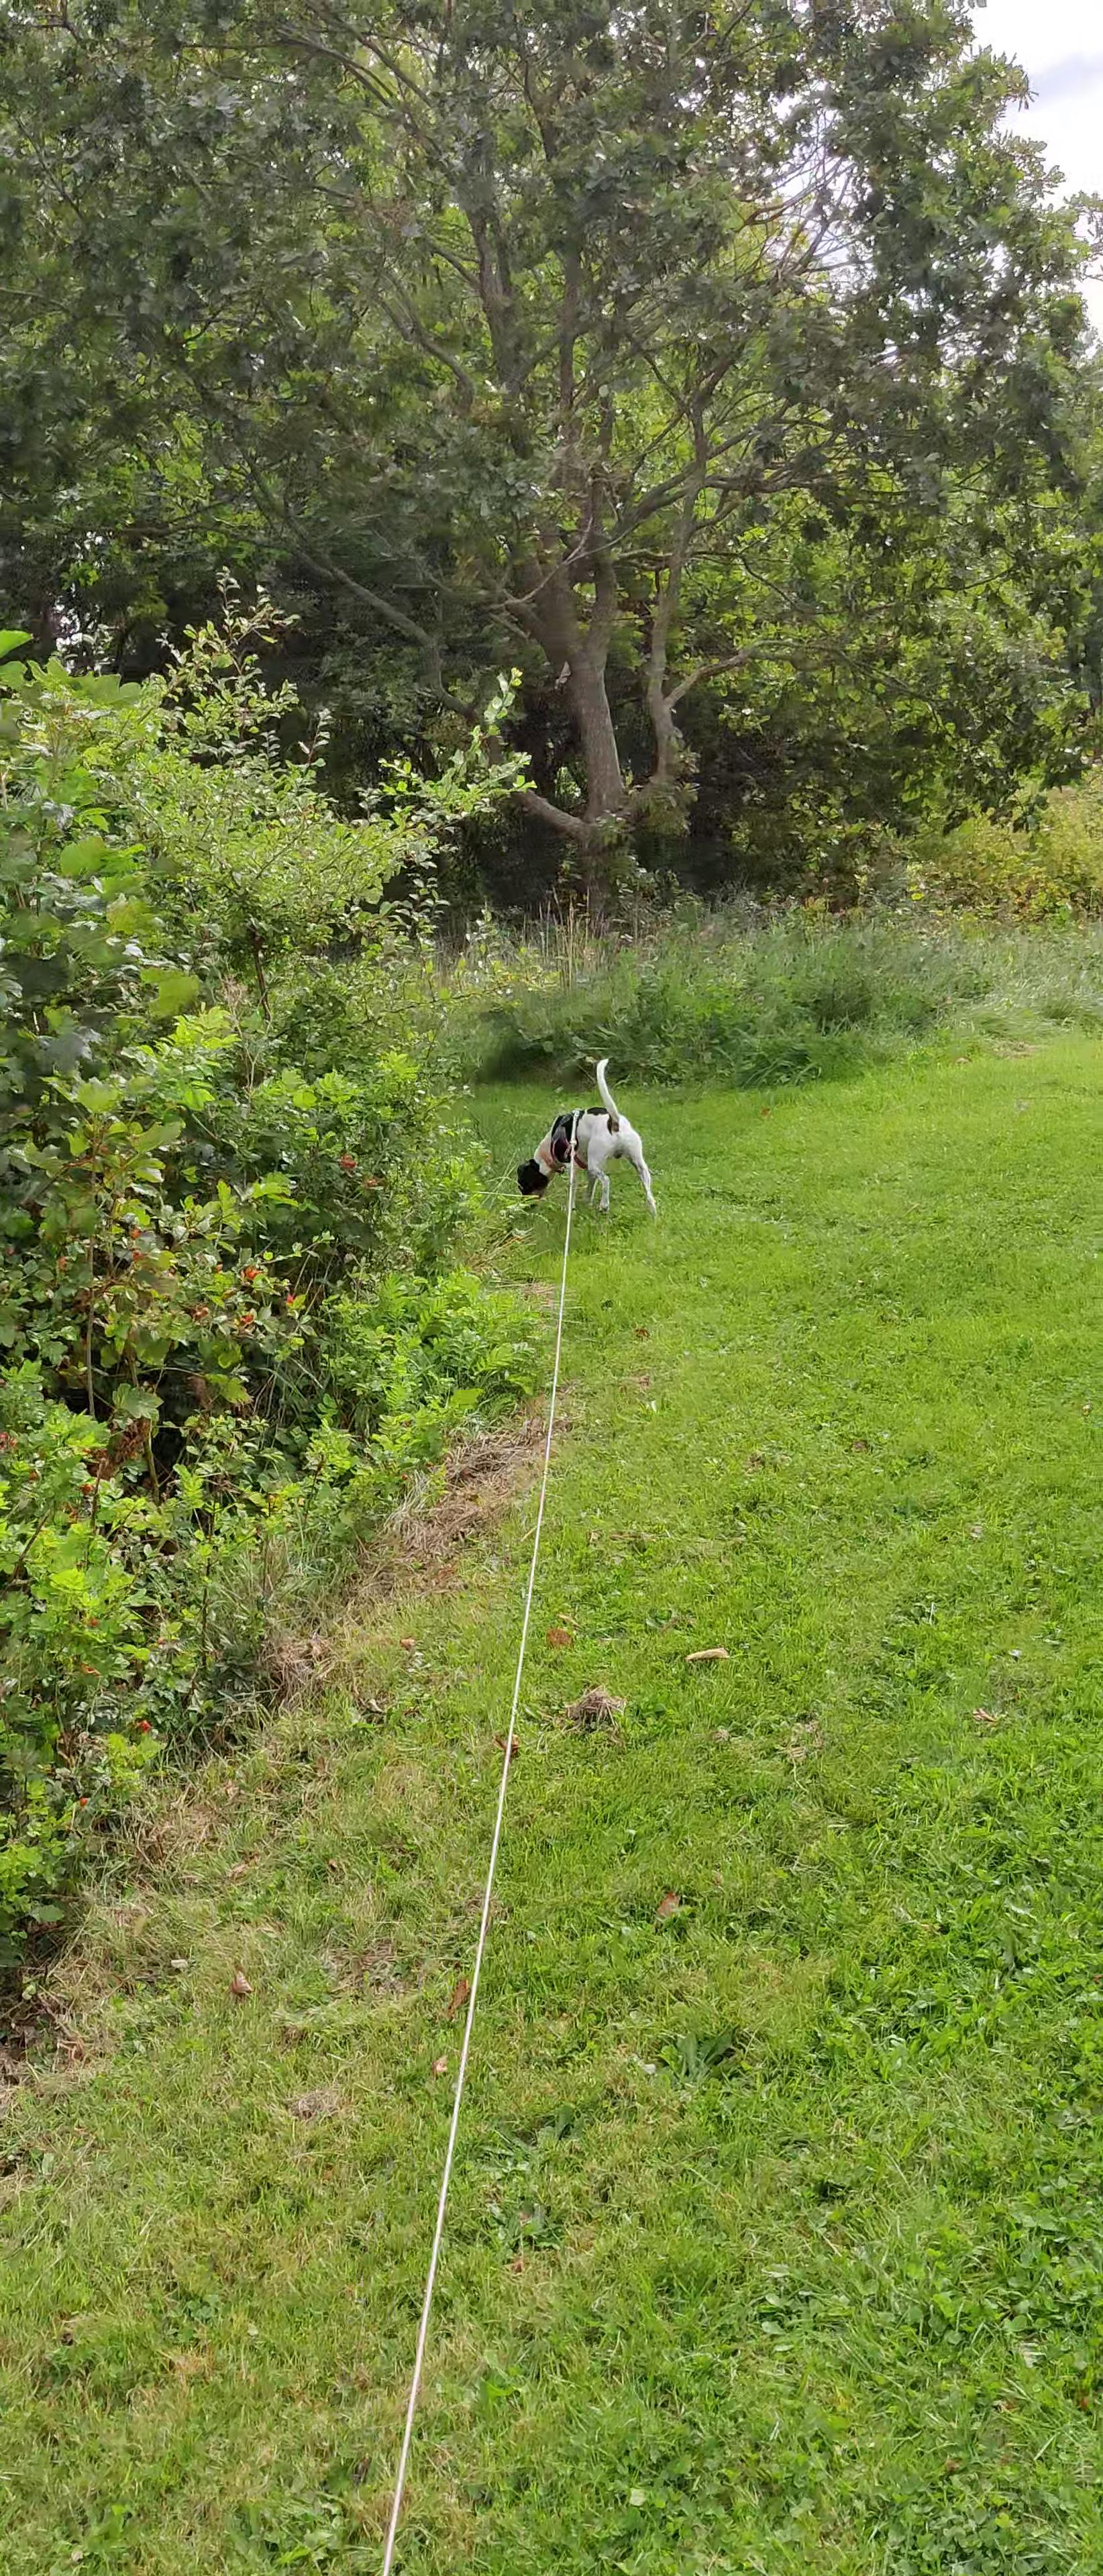Dog: (515, 1056, 662, 1222)
